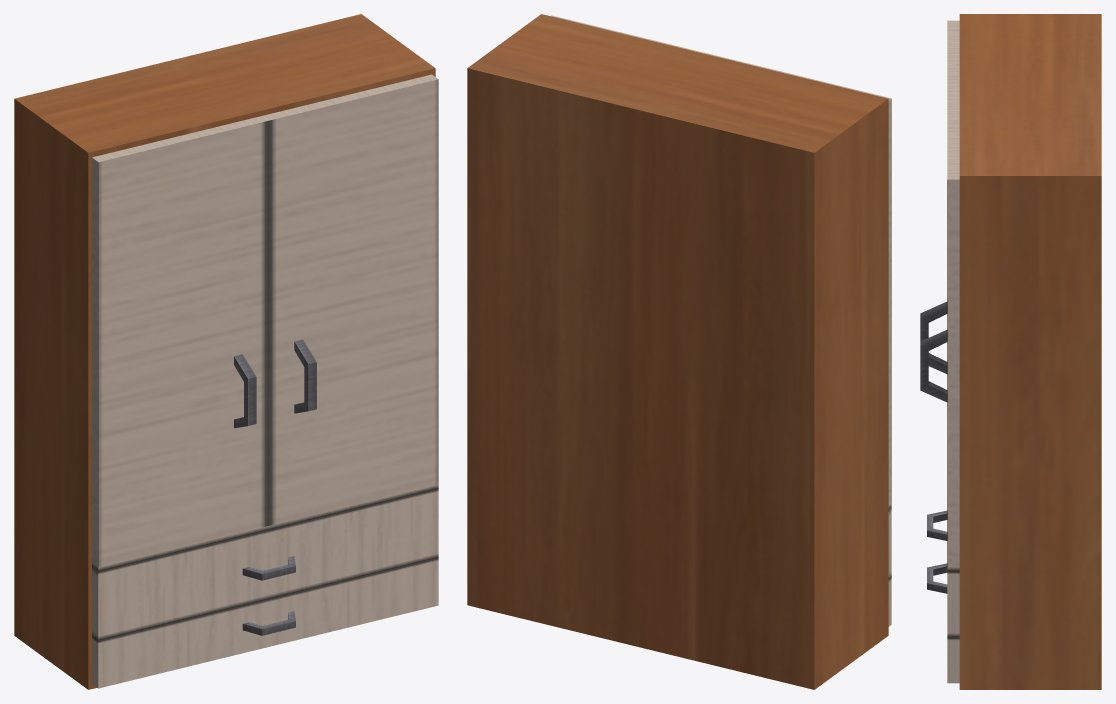
The model's file is WardRobe_1B.fbx.
3 views of the same model, side by side, from view 1: azimuth 30°, elevation 25°; view 2: azimuth 150°, elevation 25°; view 3: azimuth 270°, elevation 25° (orthographic). The views are drawn at different scales.
Parts seen in each view (by area): view 1: polySurface1507; view 2: polySurface1507; view 3: polySurface1507.
Part boxes in pixels (x1,y1,x2,y2): polySurface1507: [14, 14, 438, 689]; polySurface1507: [467, 14, 891, 689]; polySurface1507: [920, 14, 1101, 689].
Size of the model in its own units: 2.3 by 3.4 by 1.09.
